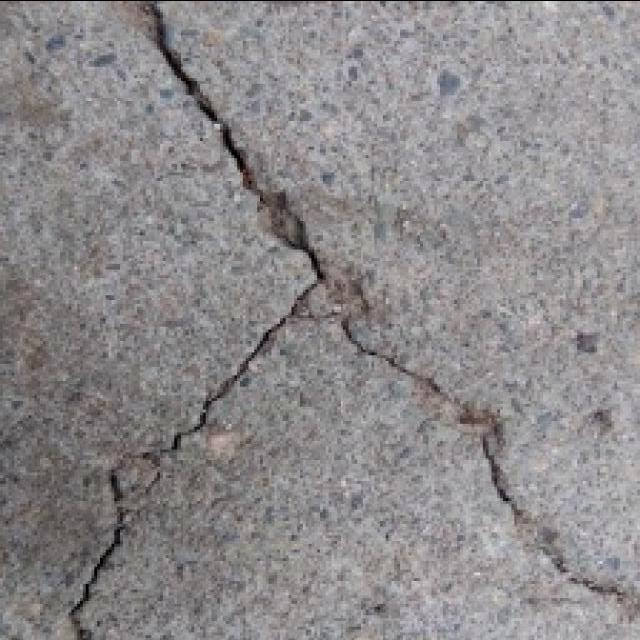SurfaceCrack: (122, 0, 640, 602), (26, 254, 346, 640)
